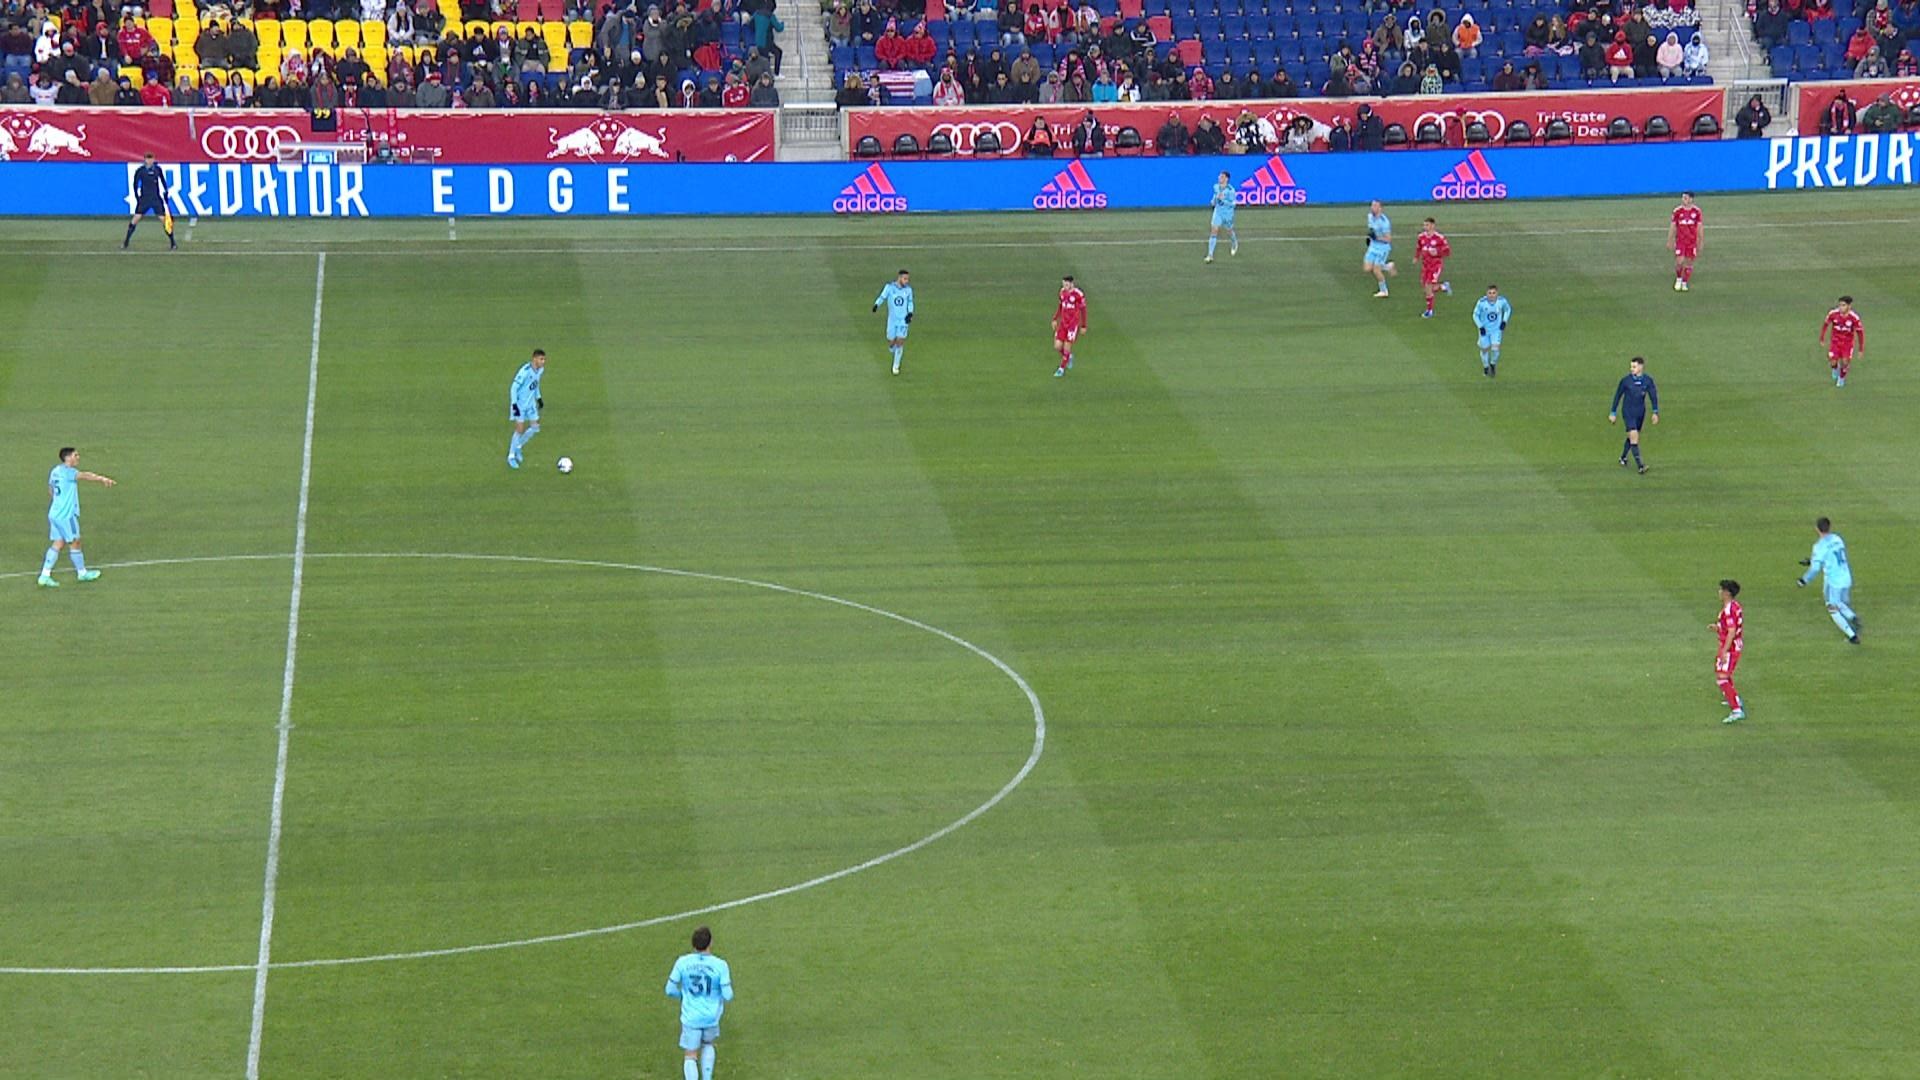football: (556, 455, 574, 475)
